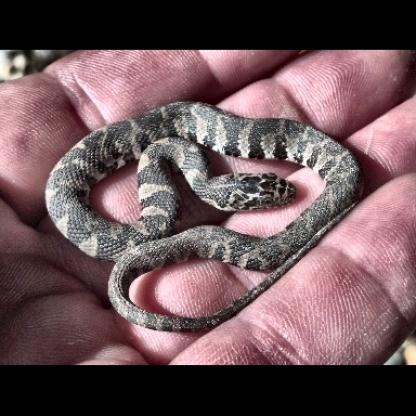Snake: (40, 81, 390, 338)
